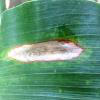Corn leaf blight: (0, 6, 99, 95)
